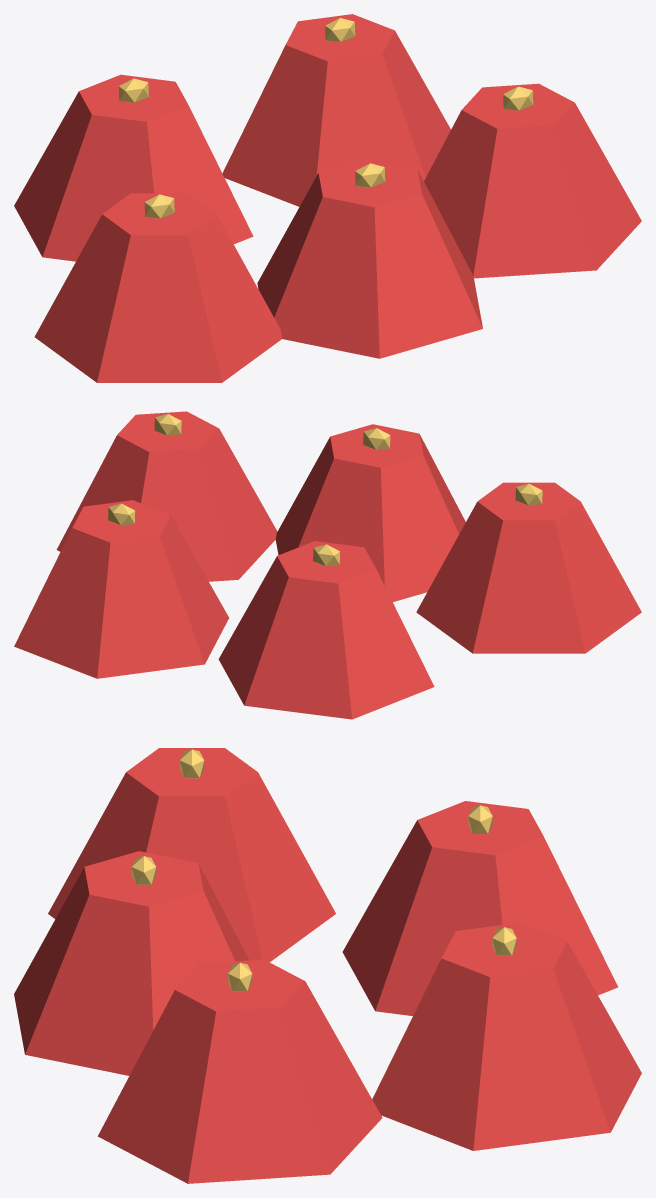
File: FTF_Ingredient_Chopped_Strawberry.glb
3 views of the same model, one above another, from view 1: azimuth 30°, elevation 25°; view 2: azimuth 150°, elevation 25°; view 3: azimuth 270°, elevation 25° (orthographic). The views are drawn at different scales.
Parts seen in each view (by area): view 1: Strawberry_Slice_00, Strawberry_Seed_00; view 2: Strawberry_Slice_00, Strawberry_Seed_00; view 3: Strawberry_Slice_00, Strawberry_Seed_00.
Boxes of the visible parts, x1=… form: Strawberry_Slice_00: x1=14, y1=14, x2=641, y2=382; Strawberry_Seed_00: x1=118, y1=18, x2=533, y2=218; Strawberry_Slice_00: x1=14, y1=411, x2=641, y2=719; Strawberry_Seed_00: x1=108, y1=414, x2=542, y2=566; Strawberry_Slice_00: x1=14, y1=748, x2=641, y2=1183; Strawberry_Seed_00: x1=131, y1=749, x2=516, y2=991.
Bounding box in the file's own units: 0.6358 × 0.151 × 0.5226.
